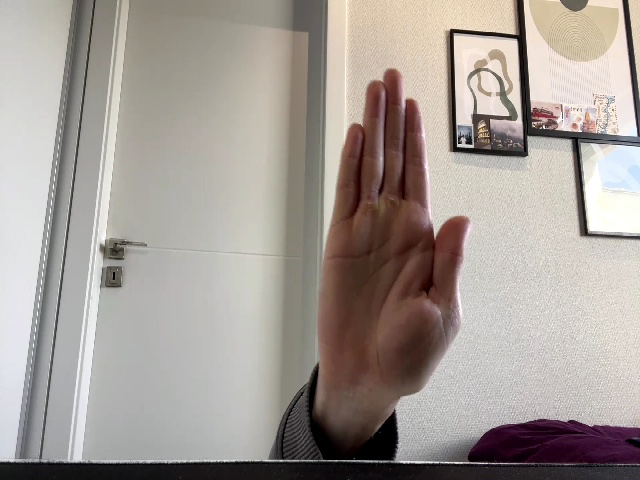B: (318, 68, 471, 401)
